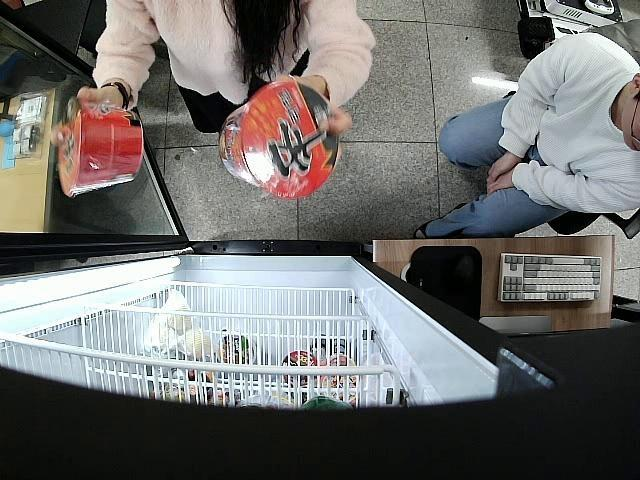01_ShinRamen_L: (218, 79, 339, 200), (58, 96, 144, 198)
